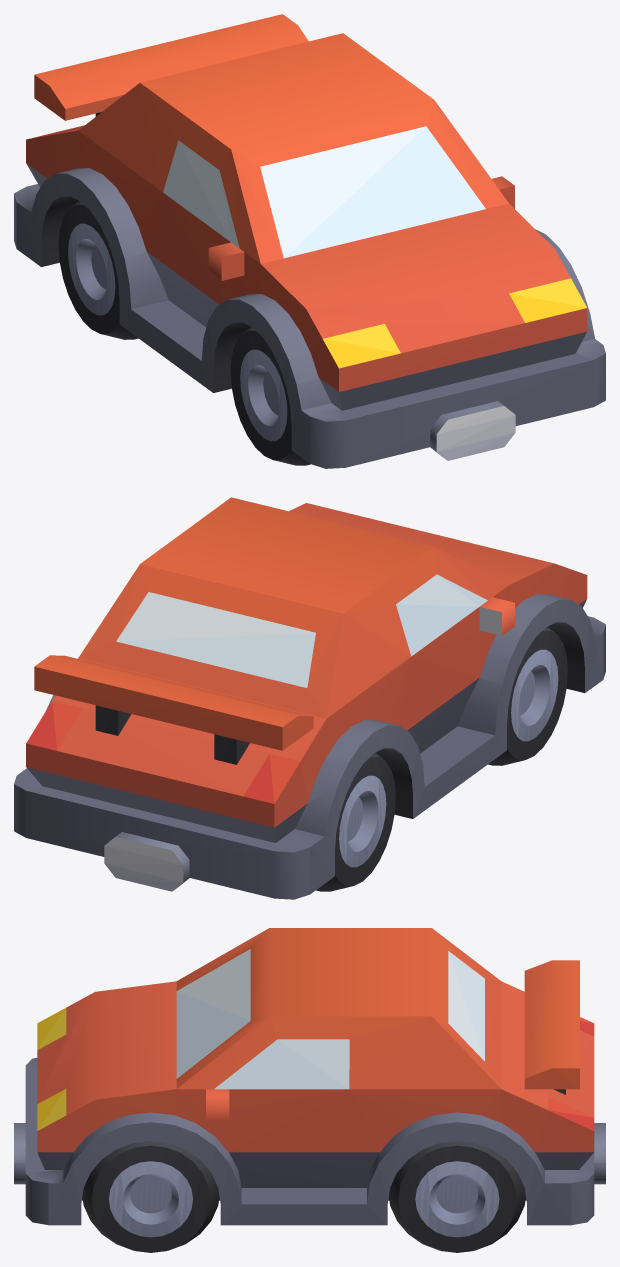
Rendered from sedan-sports-960b4fba85.glb.
3 views of the same model, one above another, from view 1: azimuth 30°, elevation 25°; view 2: azimuth 150°, elevation 25°; view 3: azimuth 270°, elevation 25° (orthographic). The views are drawn at different scales.
Visible parts, largest first — view 1: body, spoiler, WheelRearR, WheelFrontR; view 2: body, spoiler, WheelRearR, WheelFrontR; view 3: body, WheelRearL, WheelFrontL, spoiler.
Boxes of the visible parts, x1,y1,x2,y2 form: body: (14,33,605,468); spoiler: (34,14,308,120); WheelRearR: (58,200,138,339); WheelFrontR: (230,326,310,465); body: (14,497,605,899); spoiler: (34,655,313,764); WheelRearR: (316,752,395,891); WheelFrontR: (488,626,567,765); body: (14,928,605,1225); WheelRearL: (389,1141,525,1252); WheelFrontL: (82,1141,219,1252); spoiler: (524,960,579,1094).
Size of the model in its own units: 2.29 by 1.94 by 4.5.
